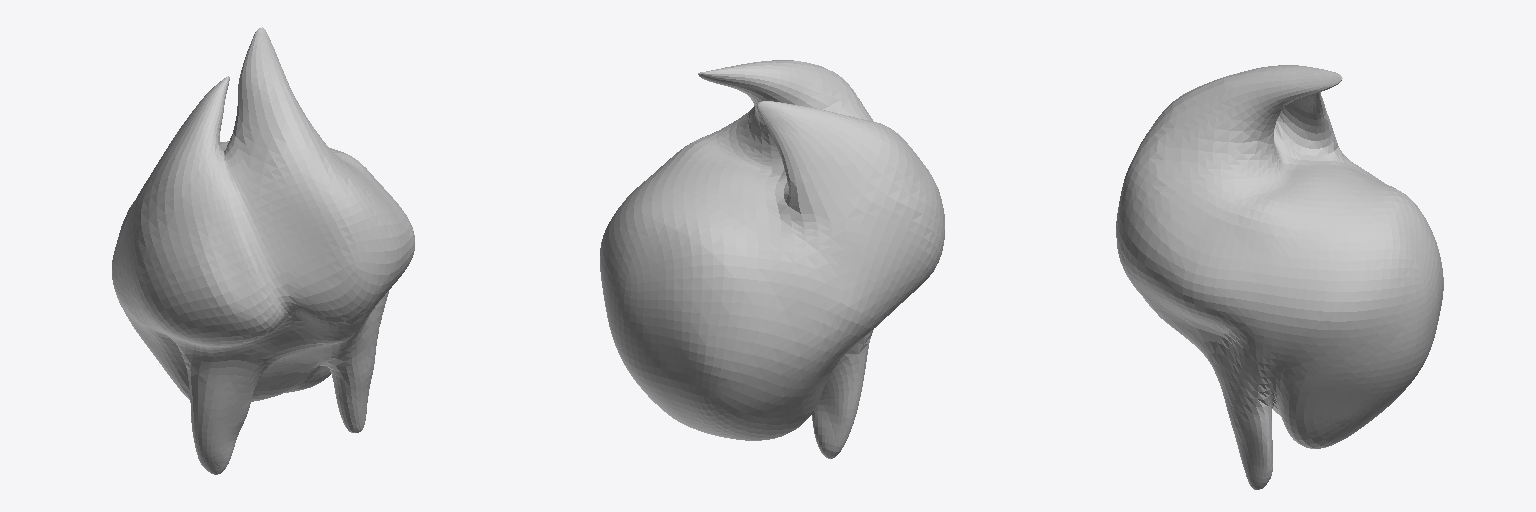
The model's file is HairMain.OBJ.
3 views of the same model, side by side, from view 1: azimuth 30°, elevation 25°; view 2: azimuth 150°, elevation 25°; view 3: azimuth 270°, elevation 25° (orthographic).
Parts seen in each view (by area): view 1: Group39064; view 2: Group39064; view 3: Group39064.
Part boxes in pixels (bbox=[...]): Group39064: bbox=[112, 27, 414, 474]; Group39064: bbox=[600, 60, 944, 458]; Group39064: bbox=[1116, 65, 1443, 489].
Bounding box in the file's own units: 34.7 × 47.47 × 35.65.